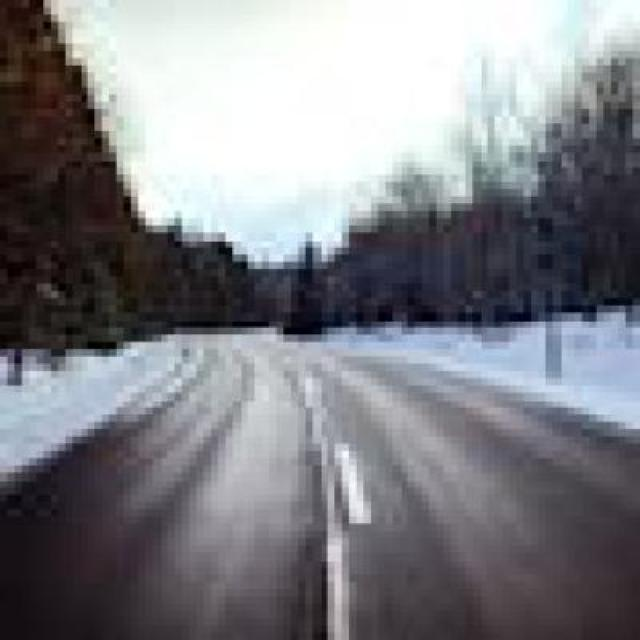ice-road: (0, 356, 640, 640)
